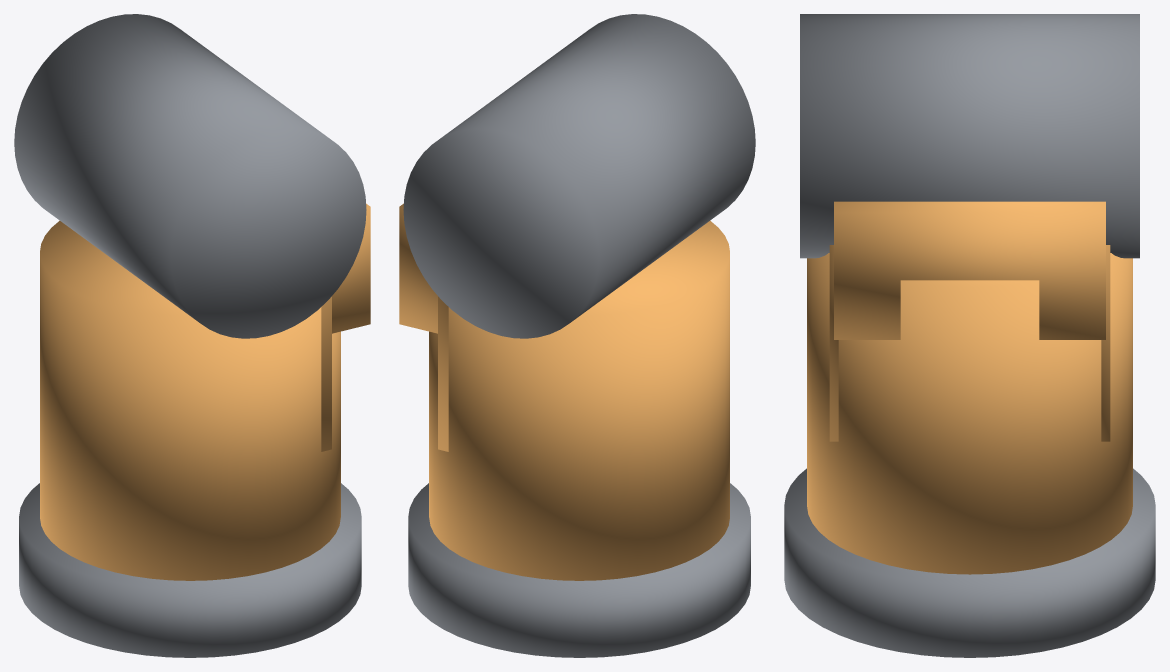
Rendered from turret.glb.
The picture shows the model from 3 angles, left to right: view 1: azimuth 30°, elevation 25°; view 2: azimuth 150°, elevation 25°; view 3: azimuth 270°, elevation 25°; orthographic projection. The views are drawn at different scales.
Visible parts, largest first — view 1: world; view 2: world; view 3: world.
Part boxes in pixels (<box>): world: <box>14,14,370,657</box>; world: <box>399,14,755,657</box>; world: <box>784,14,1155,657</box>.
Bounding box in the file's own units: 0.164 × 0.27 × 0.164.
